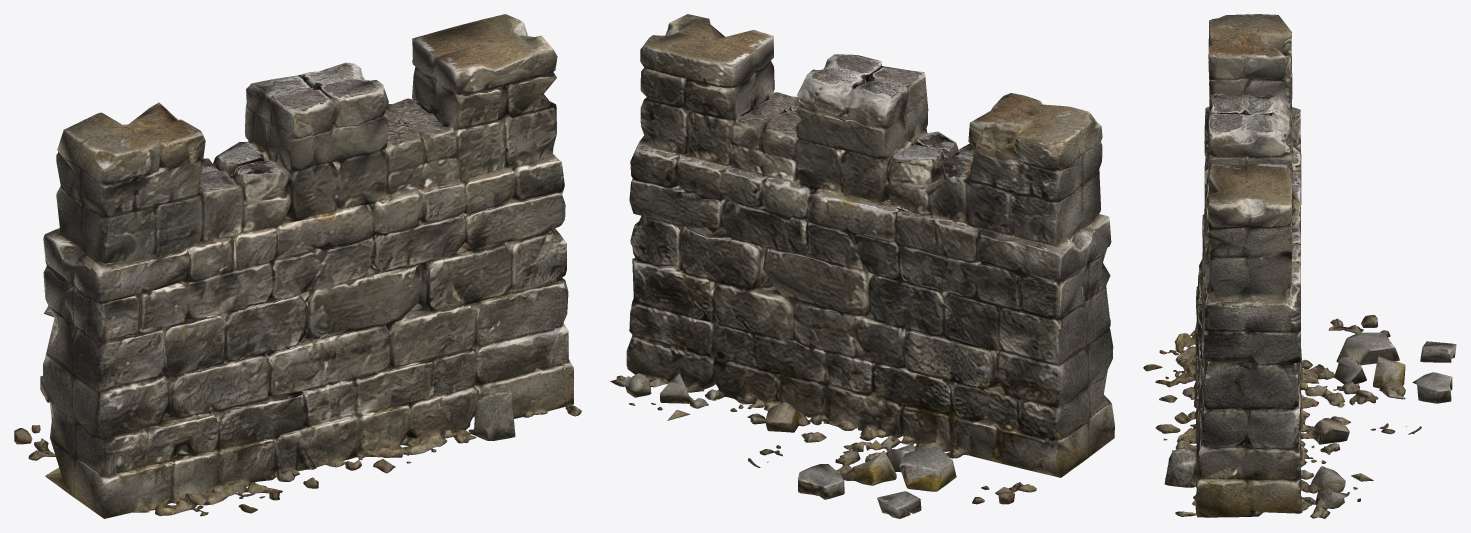
The model's file is fort_m_savanna_wall.glb.
3 views of the same model, side by side, from view 1: azimuth 30°, elevation 25°; view 2: azimuth 150°, elevation 25°; view 3: azimuth 270°, elevation 25° (orthographic). The views are drawn at different scales.
Visible parts, largest first — view 1: fort_m_savanna_wall; view 2: fort_m_savanna_wall; view 3: fort_m_savanna_wall.
Boxes of the visible parts, x1,y1,x2,y2 form: fort_m_savanna_wall: (14,14,581,518); fort_m_savanna_wall: (610,14,1114,518); fort_m_savanna_wall: (1143,14,1456,518).
Bounding box in the file's own units: 1.9 × 1.35 × 1.25.
1 material, 1 textured.
